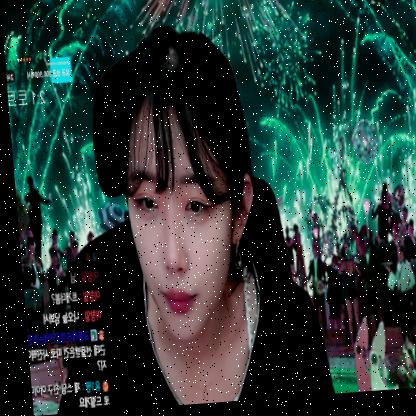streamer: (12, 18, 332, 415)
